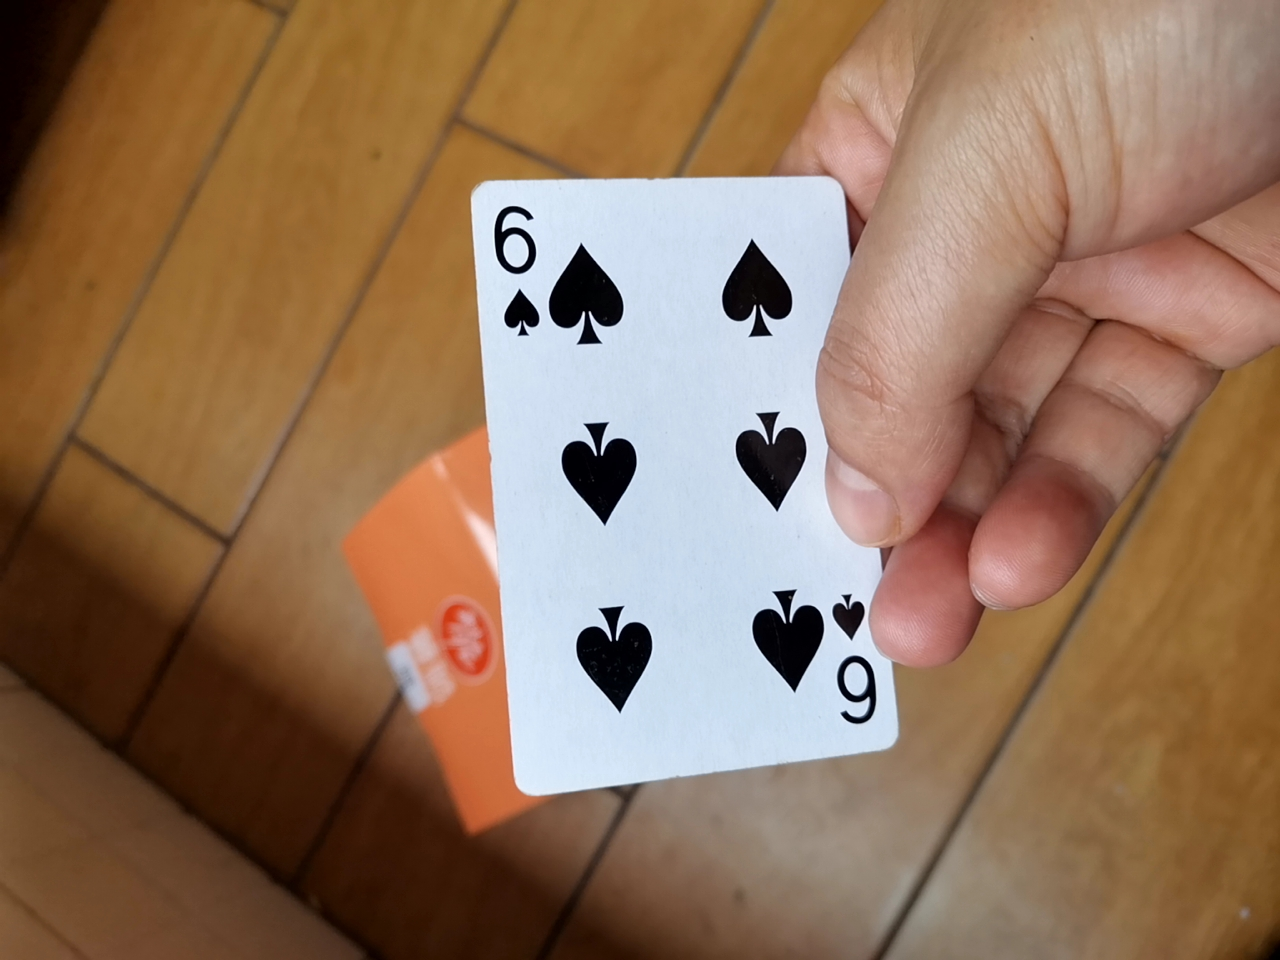ht 6: (454, 173, 868, 821)
